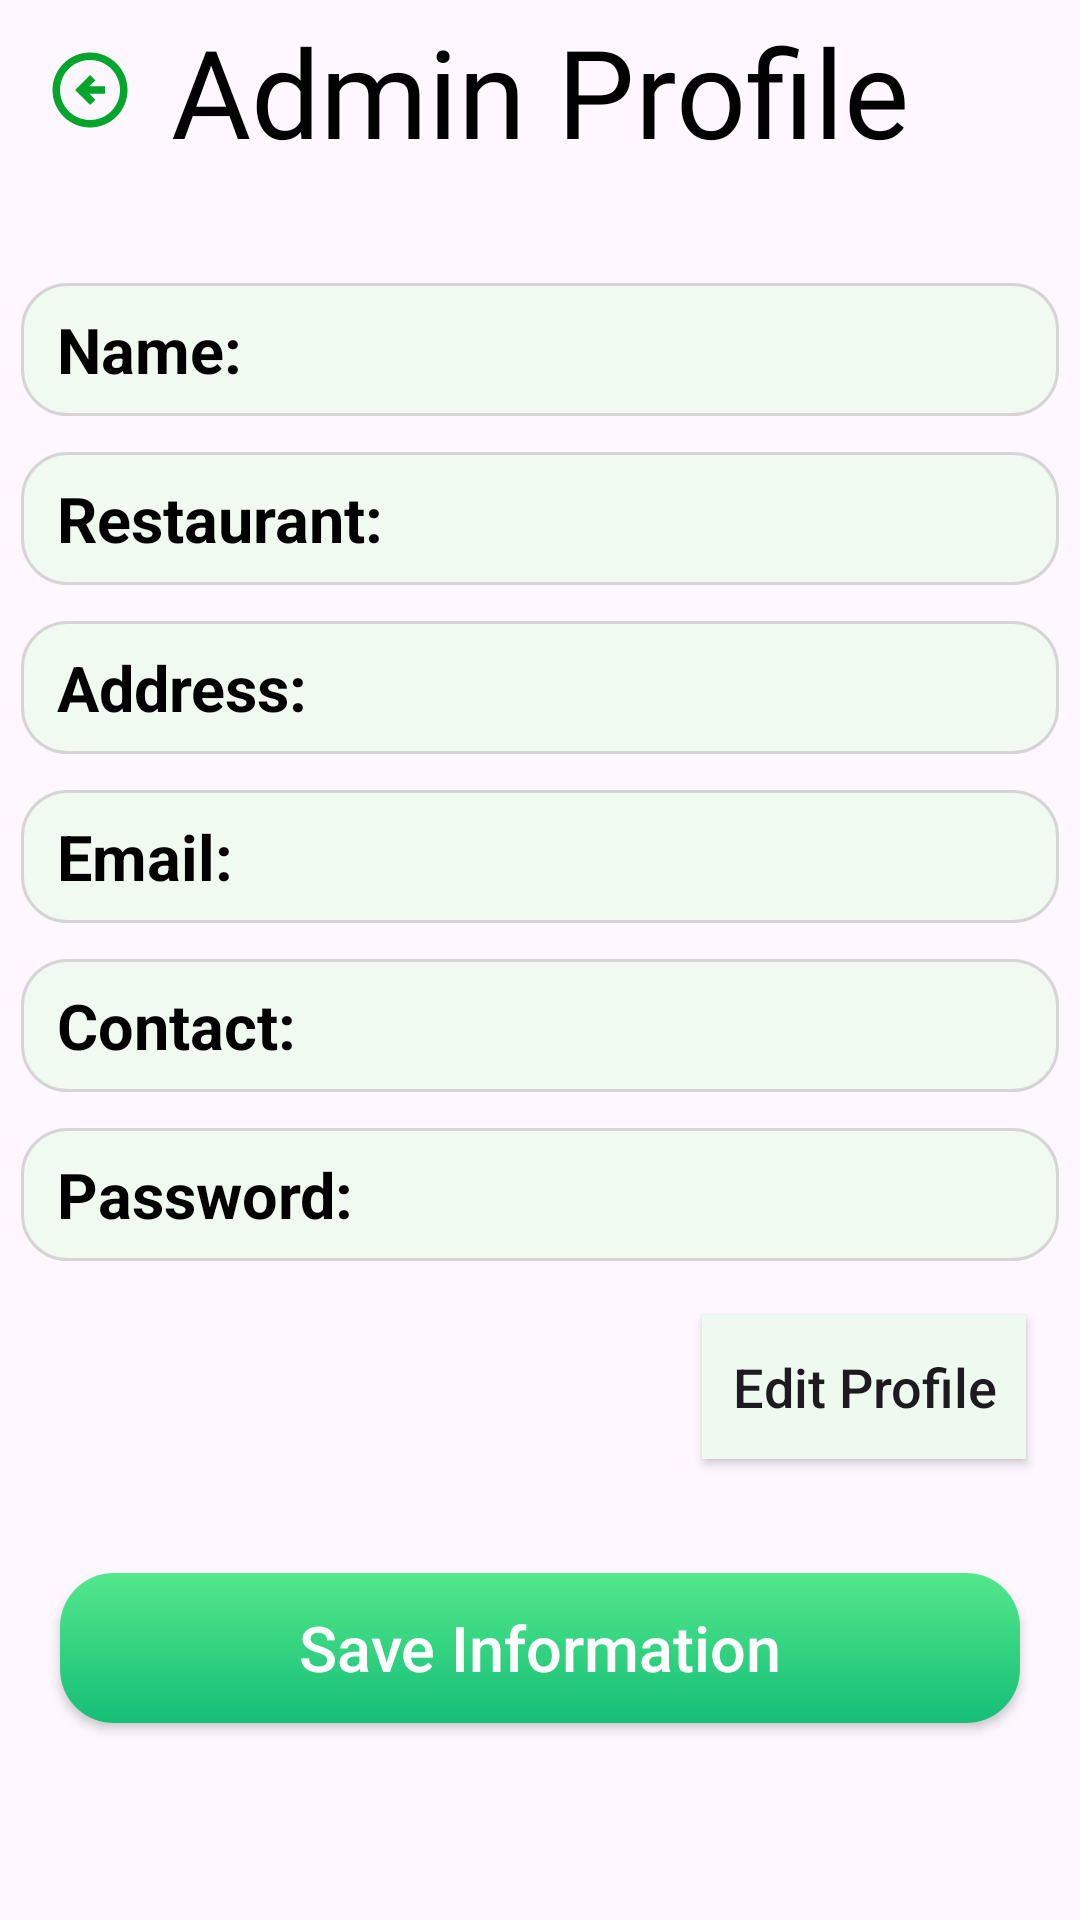

Screen size 1080*1920. Icon name, then its center in pixels as point (x, y):
arrow left: point (90, 90)
